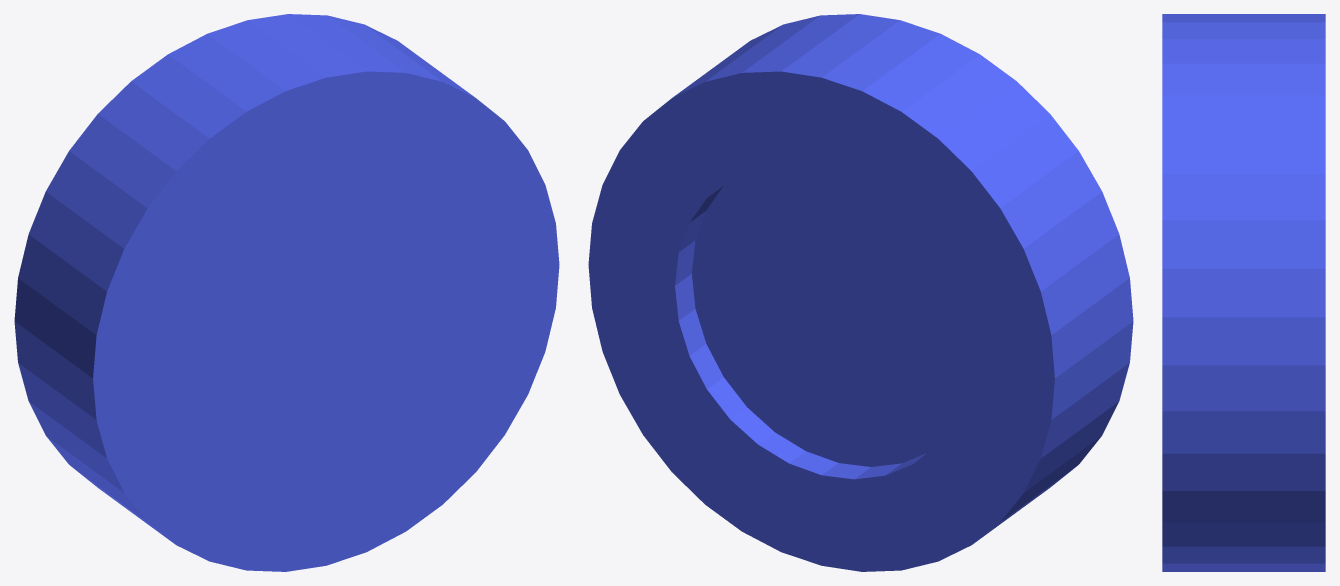
Rendered from wheel.dae.
3 views of the same model, side by side, from view 1: azimuth 30°, elevation 25°; view 2: azimuth 150°, elevation 25°; view 3: azimuth 270°, elevation 25° (orthographic). The views are drawn at different scales.
Visible parts, largest first — view 1: node0; view 2: node0; view 3: node0.
Boxes of the visible parts, x1=… form: node0: x1=14, y1=14, x2=559, y2=571; node0: x1=588, y1=14, x2=1133, y2=571; node0: x1=1162, y1=14, x2=1325, y2=571.
Bounding box in the file's own units: 0.24 × 0.07 × 0.24.
